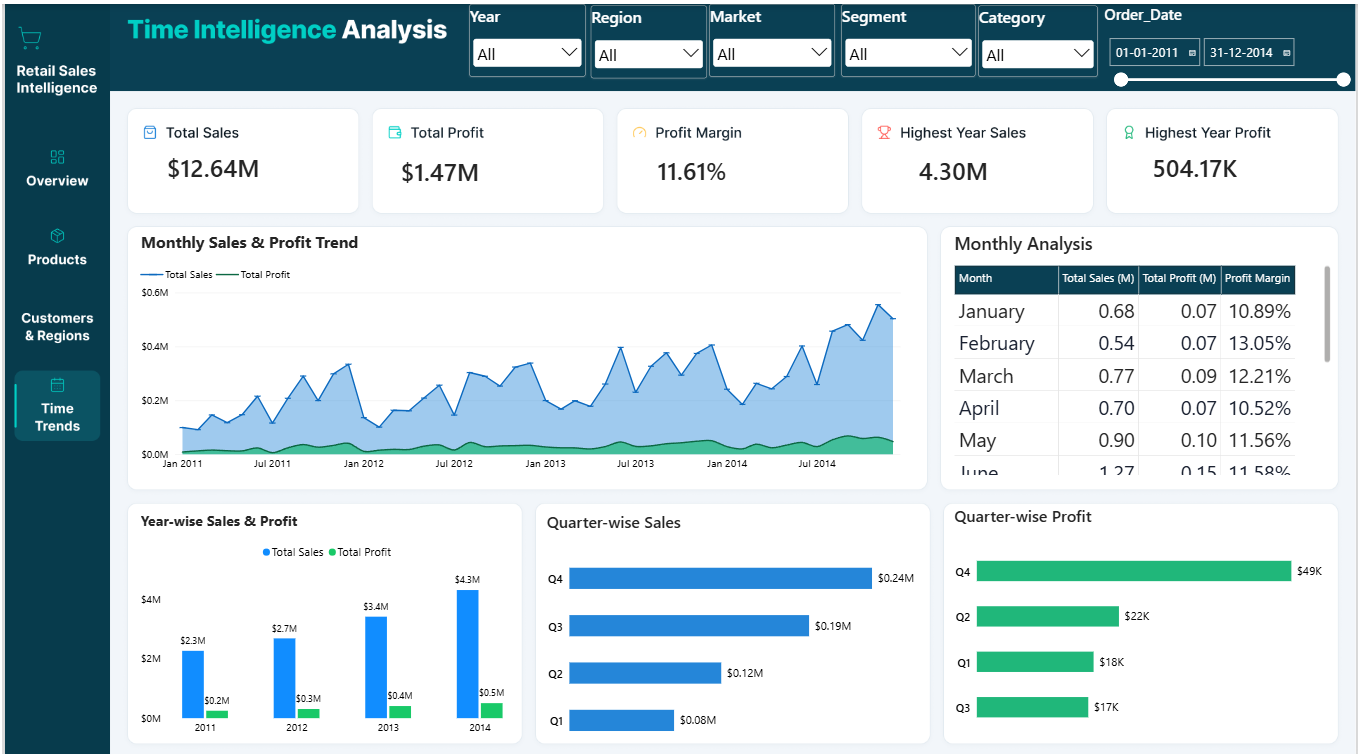

What the dashboard file says about the page in this screenshot:
{"tool":"powerbi","page":{"name":"Page 4","canvas":[1920,1080],"ordinal":3},"visuals":[{"type":"slicer","title":"Order_Date","fields":{"Values":["clean_global_superstore.Order_Date"]},"box":[1562.2,0,355.8,122.5],"z":0},{"type":"slicer","title":"Region","fields":{"Values":["clean_global_superstore.Region"]},"box":[832.3,2.6,164.9,103.7],"z":0,"group":"g1"},{"type":"group","id":"g1","title":"Group 7","box":[660.3,0.3,893,106],"z":1000},{"type":"slicer","title":"Year","fields":{"Values":["Calendar.Year"]},"box":[660.3,0.3,164.9,103.7],"z":1000,"group":"g1"},{"type":"cardVisual","fields":{"Data":["clean_global_superstore.Total Sales"]},"box":[213.7,195.9,181.4,70.7],"z":1001},{"type":"cardVisual","fields":{"Data":["clean_global_superstore.Total Profit"]},"box":[546.2,201.8,195.9,71.2],"z":1002},{"type":"cardVisual","fields":{"Data":["clean_global_superstore.Profit Margin"]},"box":[911.3,201.8,181.4,70.7],"z":1003},{"type":"cardVisual","fields":{"Data":["clean_global_superstore.Highest Year Sales"]},"box":[1282.3,201.8,181.4,70.7],"z":1004},{"type":"cardVisual","fields":{"Data":["clean_global_superstore.Highest Year Profit"]},"box":[1614.8,195.9,181.4,70.7],"z":1005},{"type":"areaChart","title":"Monthly Sales & Profit Trend","fields":{"Category":["Calendar.Date.Variation.Date Hierarchy.Year","Calendar.Date.Variation.Date Hierarchy.Month"],"Y":["clean_global_superstore.Total Sales","clean_global_superstore.Total Profit"]},"box":[178.1,308.7,1128,377],"z":1006},{"type":"tableEx","title":"Monthly Analysis","fields":{"Values":["Calendar.Date.Variation.Date Hierarchy.Month","Calendar.Total Sales (M)","Calendar.Total Profit (M)","clean_global_superstore.Profit Margin"]},"box":[1332.8,308.7,567,377],"z":1007},{"type":"clusteredColumnChart","title":"Year-wise Sales & Profit","fields":{"Category":["Calendar.Year"],"Y":["clean_global_superstore.Total Sales","clean_global_superstore.Total Profit"]},"box":[178.1,706.5,565.5,353.4],"z":1008},{"type":"barChart","title":"Quarter-wise Sales","fields":{"Category":["Calendar.Quarter"],"Y":["clean_global_superstore.Total Sales"]},"box":[754,706.5,555.1,374],"z":1009},{"type":"barChart","title":"Quarter-wise Profit","fields":{"Category":["Calendar.Quarter"],"Y":["clean_global_superstore.Total Profit"]},"box":[1332.8,697.6,555.1,362.1],"z":1010},{"type":"shape","box":[4.8,307.6,148.4,99],"z":1011},{"type":"shape","box":[0,179.2,148.4,99],"z":1012},{"type":"shape","box":[2.4,404.4,148.4,99],"z":1013},{"type":"slicer","title":"Market","fields":{"Values":["clean_global_superstore.Market"]},"box":[1002,0.3,179.1,103.7],"z":2000,"group":"g1"},{"type":"slicer","title":"Segment","fields":{"Values":["clean_global_superstore.Segment"]},"box":[1188.1,0.3,190.9,103.7],"z":3000,"group":"g1"},{"type":"slicer","title":"Category","fields":{"Values":["clean_global_superstore.Category"]},"box":[1383.7,2.6,169.6,101.4],"z":15000,"group":"g1"}]}

Visuals, with their boxes on the page's 1920x1080 design canvas (x1, y1, x2, y2). These are canvas units, not pixel positions in the 1360x756 screenshot, which may show the page scaled, cropped or inside an application window:
"Order_Date" slicer: {"x1": 1562, "y1": 0, "x2": 1918, "y2": 122}
"Region" slicer: {"x1": 832, "y1": 3, "x2": 997, "y2": 106}
"Group 7" group: {"x1": 660, "y1": 0, "x2": 1553, "y2": 106}
"Year" slicer: {"x1": 660, "y1": 0, "x2": 825, "y2": 104}
cardVisual - clean_global_superstore.Total Sales: {"x1": 214, "y1": 196, "x2": 395, "y2": 267}
cardVisual - clean_global_superstore.Total Profit: {"x1": 546, "y1": 202, "x2": 742, "y2": 273}
cardVisual - clean_global_superstore.Profit Margin: {"x1": 911, "y1": 202, "x2": 1093, "y2": 272}
cardVisual - clean_global_superstore.Highest Year Sales: {"x1": 1282, "y1": 202, "x2": 1464, "y2": 272}
cardVisual - clean_global_superstore.Highest Year Profit: {"x1": 1615, "y1": 196, "x2": 1796, "y2": 267}
"Monthly Sales & Profit Trend" areaChart: {"x1": 178, "y1": 309, "x2": 1306, "y2": 686}
"Monthly Analysis" tableEx: {"x1": 1333, "y1": 309, "x2": 1900, "y2": 686}
"Year-wise Sales & Profit" clusteredColumnChart: {"x1": 178, "y1": 706, "x2": 744, "y2": 1060}
"Quarter-wise Sales" barChart: {"x1": 754, "y1": 706, "x2": 1309, "y2": 1080}
"Quarter-wise Profit" barChart: {"x1": 1333, "y1": 698, "x2": 1888, "y2": 1060}
shape: {"x1": 5, "y1": 308, "x2": 153, "y2": 407}
shape: {"x1": 0, "y1": 179, "x2": 148, "y2": 278}
shape: {"x1": 2, "y1": 404, "x2": 151, "y2": 503}
"Market" slicer: {"x1": 1002, "y1": 0, "x2": 1181, "y2": 104}
"Segment" slicer: {"x1": 1188, "y1": 0, "x2": 1379, "y2": 104}
"Category" slicer: {"x1": 1384, "y1": 3, "x2": 1553, "y2": 104}
